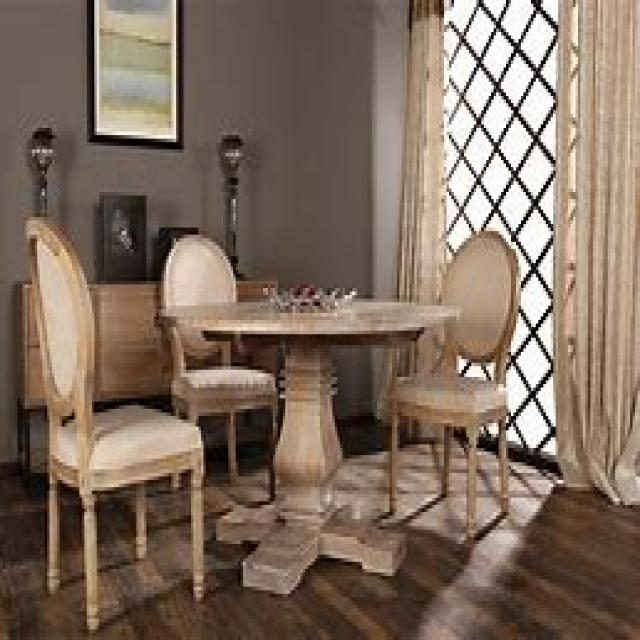chair: (22, 213, 204, 630), (387, 227, 518, 537), (159, 231, 278, 501)
